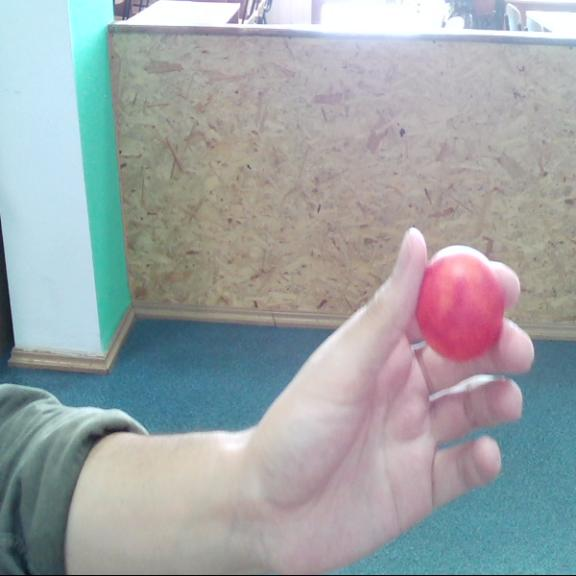ball: (421, 242, 502, 360)
